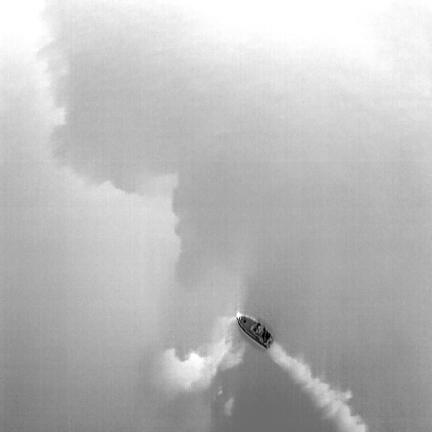flukeprints: (163, 348, 207, 391)
